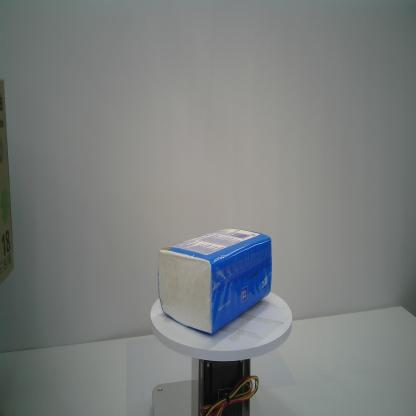Tissue: (155, 227, 272, 336)
